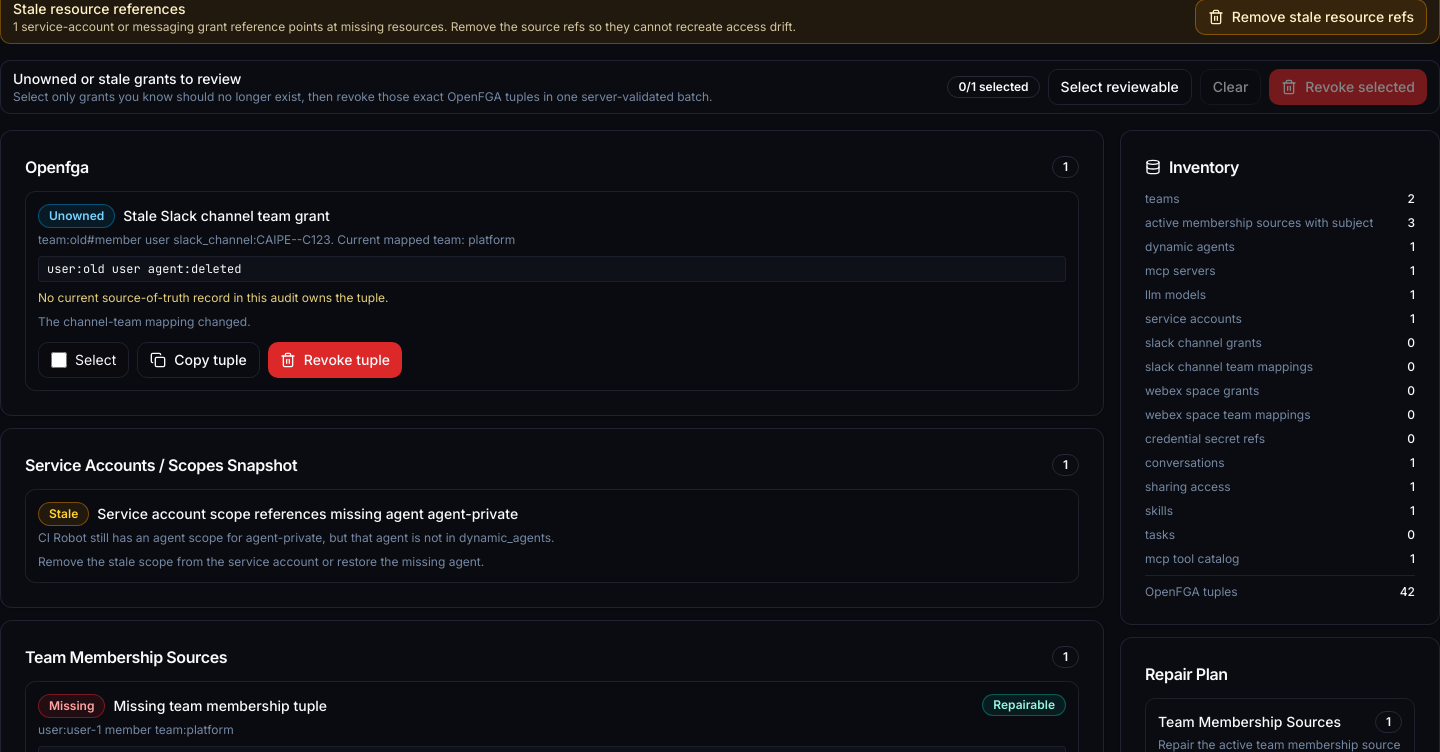
it: revokes a reviewed orphan tuple and refreshes the report
(page scrolled)
Expected: the text "Stale Slack channel team grant" is shown, 123,206 -> 330,226
Click the button "Revoke tuple": (335, 360) 268,342 -> 402,378
(page scrolled)
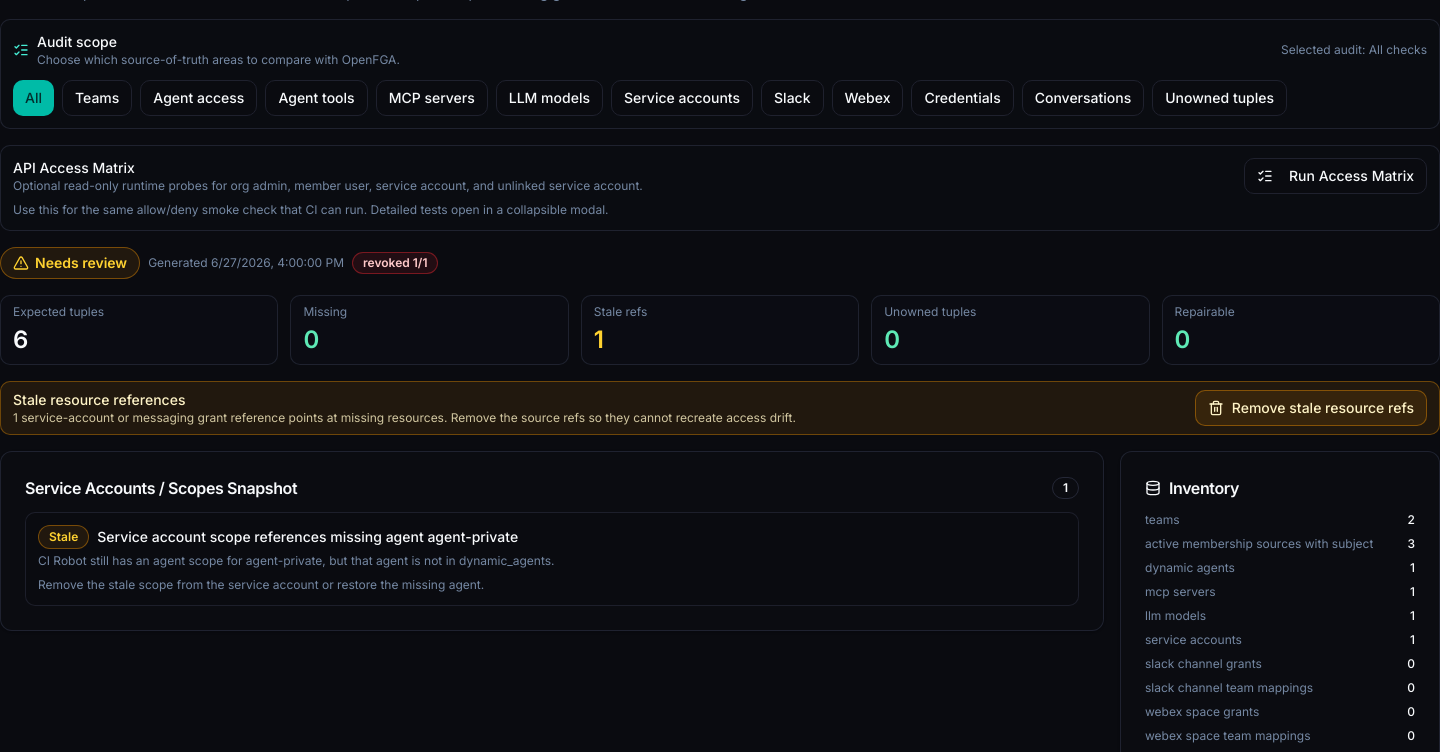
Expected: the text "revoked 1/1" is shown, 352,252 -> 438,274
